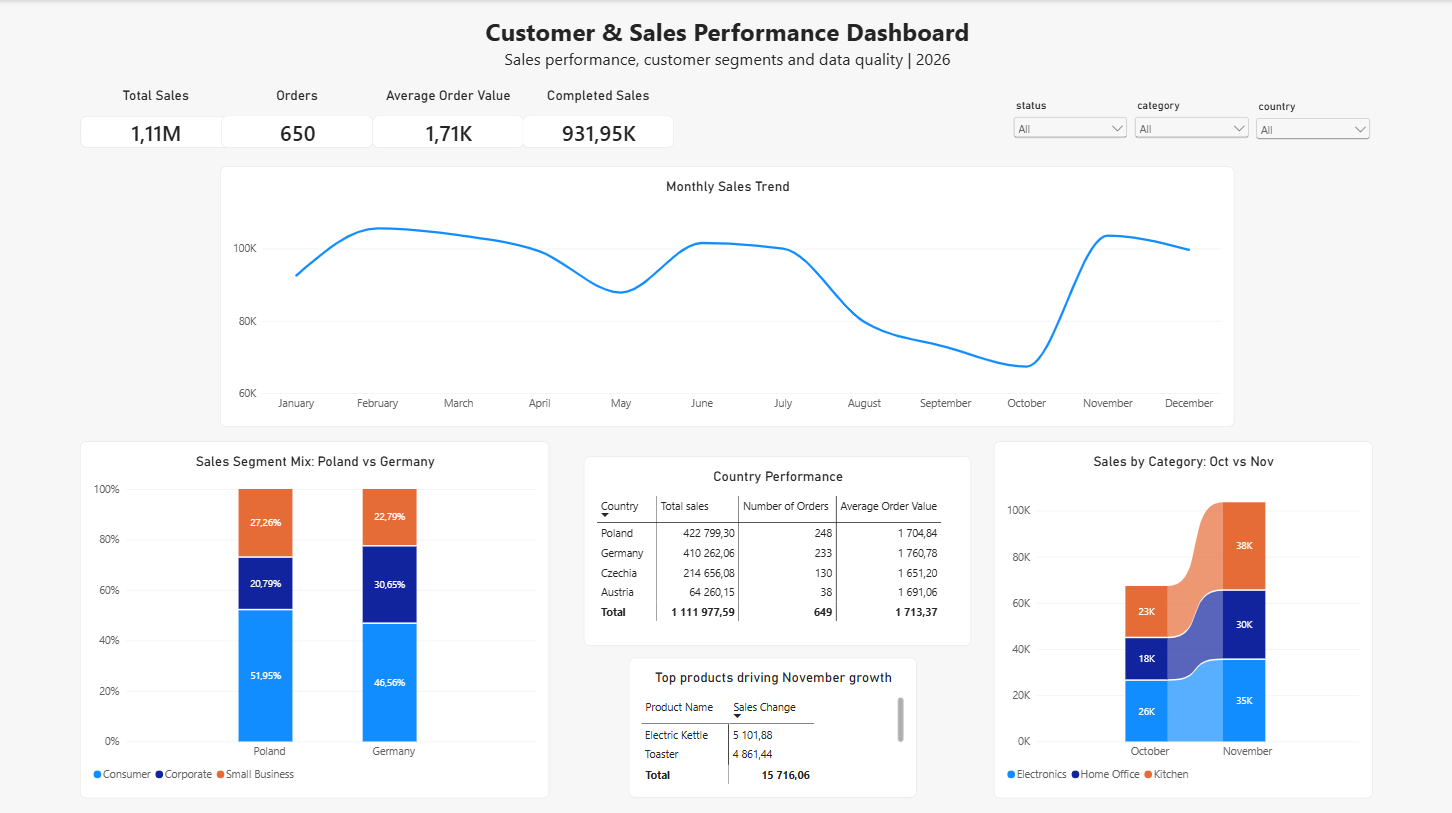

The dashboard page shown, as its layout file describes it:
{"tool":"powerbi","page":{"name":"Customer & Sales Performance Dashboard","canvas":[1920,1080],"ordinal":0},"visuals":[{"type":"cardVisual","title":"Total Sales","fields":{"Data":["order_items_analytics.Total sales"]},"box":[105.1,115.9,200,80],"z":0},{"type":"cardVisual","title":"Orders","fields":{"Data":["orders_analytics.Number of Orders"]},"box":[291.6,115.9,200,80],"z":1000},{"type":"cardVisual","title":"Average Order Value","fields":{"Data":["order_items_analytics.Average Order Value"]},"box":[490.9,115.9,200,80],"z":2000},{"type":"slicer","fields":{"Values":["orders_analytics.status"]},"box":[1333.1,130.4,159.4,79.7],"z":3000},{"type":"cardVisual","title":"Completed Sales","fields":{"Data":["order_items_analytics.Completed Sales"]},"box":[690.1,115.9,200,80],"z":4000},{"type":"lineChart","title":"Monthly Sales Trend","fields":{"Category":["Date.Month"],"Y":["order_items_analytics.Total sales"]},"box":[290.7,219.2,1338.6,344.2],"z":5000},{"type":"columnChart","title":"Sales by Category: Oct vs Nov","fields":{"Category":["Date.Month"],"Y":["order_items_analytics.Total sales"],"Series":["products_analytics.category"]},"box":[1311.4,581.4,499.9,470.9],"z":6000},{"type":"tableEx","title":"Country Performance","fields":{"Values":["customers_analytics.country","order_items_analytics.Total sales","orders_analytics.Number of Orders","order_items_analytics.Average Order Value"]},"box":[770.9,601.6,511.5,250.4],"z":7000},{"type":"hundredPercentStackedColumnChart","title":"Sales Segment Mix: Poland vs Germany","fields":{"Category":["customers_analytics.country"],"Series":["customers_analytics.segment"],"Y":["order_items_analytics.Total sales"]},"box":[105.1,581.4,619.5,470.9],"z":8000},{"type":"slicer","fields":{"Values":["customers_analytics.country"]},"box":[1651.9,132.2,160,78],"z":9000},{"type":"slicer","fields":{"Values":["products_analytics.category"]},"box":[1492.5,130.4,160,80],"z":10000},{"type":"textbox","box":[0,19.9,1920,76.1],"z":11000},{"type":"pivotTable","title":"Top products driving November growth","fields":{"Rows":["products_analytics.product_name"],"Values":["order_items_analytics.Sales Change"]},"box":[830.3,868.1,380.4,184.8],"z":12000}]}

Visuals, with their boxes in screenshot pixels (x1, y1, x2, y2), scaled from the page's 1920x1080 canvas onto the 1452x813 screenshot:
"Total Sales" cardVisual: locate(79, 87, 231, 147)
"Orders" cardVisual: locate(221, 87, 372, 147)
"Average Order Value" cardVisual: locate(371, 87, 522, 147)
slicer - orders_analytics.status: locate(1008, 98, 1129, 158)
"Completed Sales" cardVisual: locate(522, 87, 673, 147)
"Monthly Sales Trend" lineChart: locate(220, 165, 1232, 424)
"Sales by Category: Oct vs Nov" columnChart: locate(992, 438, 1370, 792)
"Country Performance" tableEx: locate(583, 453, 970, 641)
"Sales Segment Mix: Poland vs Germany" hundredPercentStackedColumnChart: locate(79, 438, 548, 792)
slicer - customers_analytics.country: locate(1249, 100, 1370, 158)
slicer - products_analytics.category: locate(1129, 98, 1250, 158)
textbox: locate(0, 15, 1451, 72)
"Top products driving November growth" pivotTable: locate(628, 653, 916, 793)
